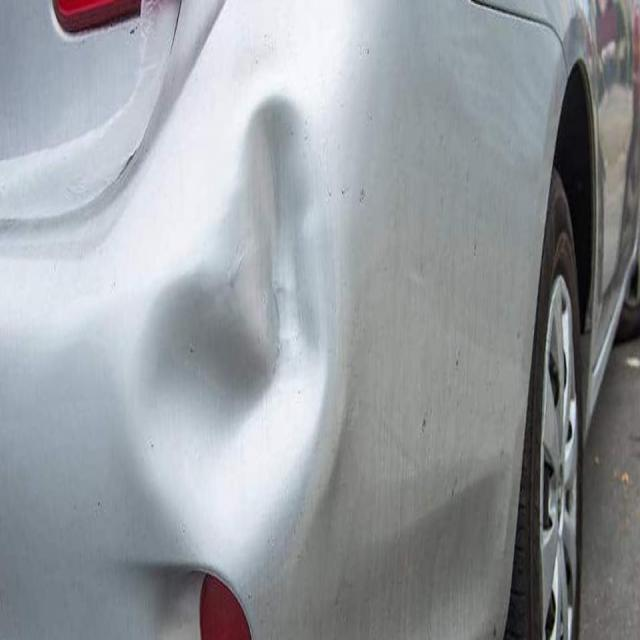dent: (127, 70, 341, 584)
